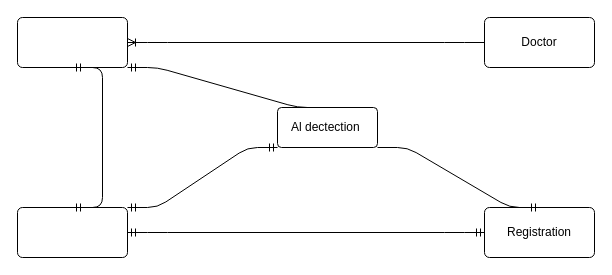
Image size: 612x275. Some labels were removed from this diagram. The centre of each missing label's shape, as x and y in pixels:
EMR: the point at 72,42
Patient: the point at 72,232
